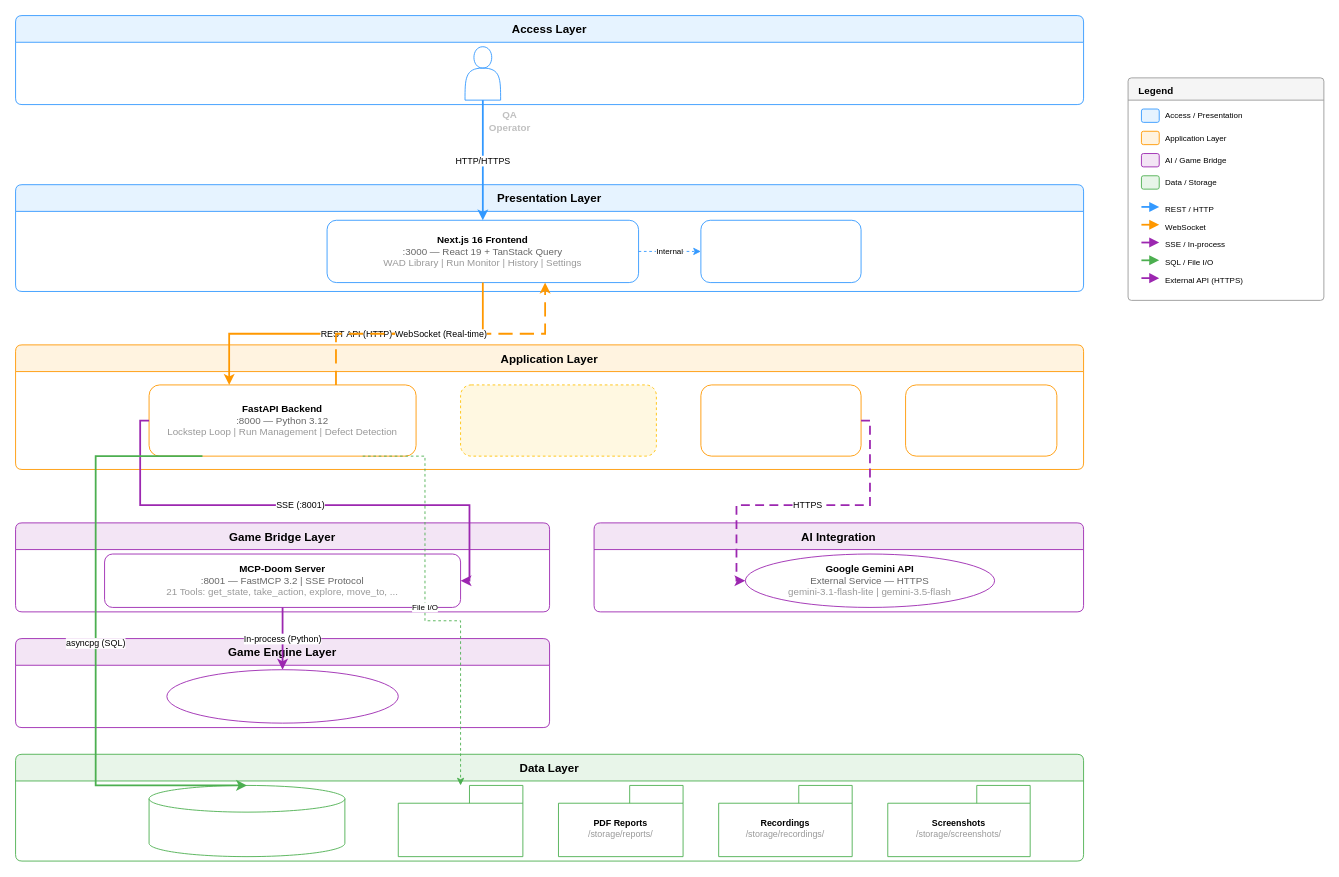
Some shapes in this 1339 by 877 pixel diagram are drawn without their labels. The shapes that lost their labels are listed below. From the top down, each one's centre as x and y in pixels, then its label:
At [780,251]: "API Rewrite Proxy /api/* → localhost:8000".
At [558,420]: "Lockstep Agent Loop run_loop.py get_state → LLM → execute → record".
At [780,420]: "Gemini Service gemini_service.py Decisions + Visual Defects".
At [981,420]: "MCP Client mcp_client_service.py FastMCP Client".
At [282,696]: "ViZDoom 1.3 Doom Engine + SDL2 + OpenGL Game State | Screenshots | Navigation".
At [246,821]: "PostgreSQL 16 :5432 — asyncpg 12 Tables | WADs, Runs, Decisions, Defects".
At [460,821]: "WAD Files /storage/wads/".
